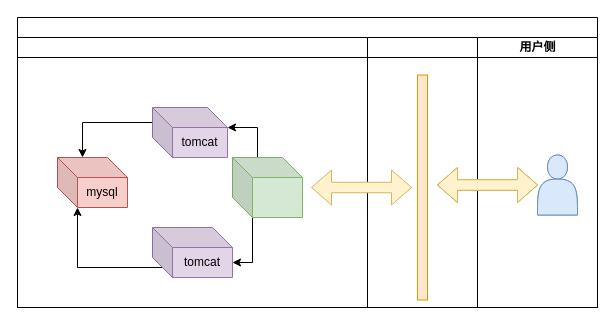
The diagram is 615 pixels wide and 325 high, and some of its shapes have lost their labels. The shapes that lost their labels are listed below. From the top down, each one's box as (x1, y1, x2, y2) in pixels, then its label:
(16, 36, 368, 308): 内网区
(232, 156, 302, 218): nginx
(366, 36, 478, 308): 防火墙
